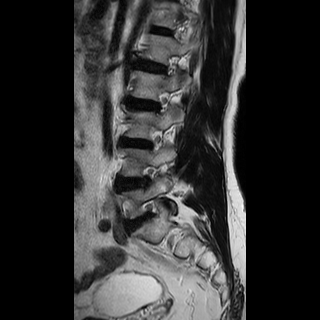RFS0: (145, 123, 167, 158), (156, 86, 177, 121)
RFS1: (139, 161, 163, 192), (138, 197, 166, 223)
